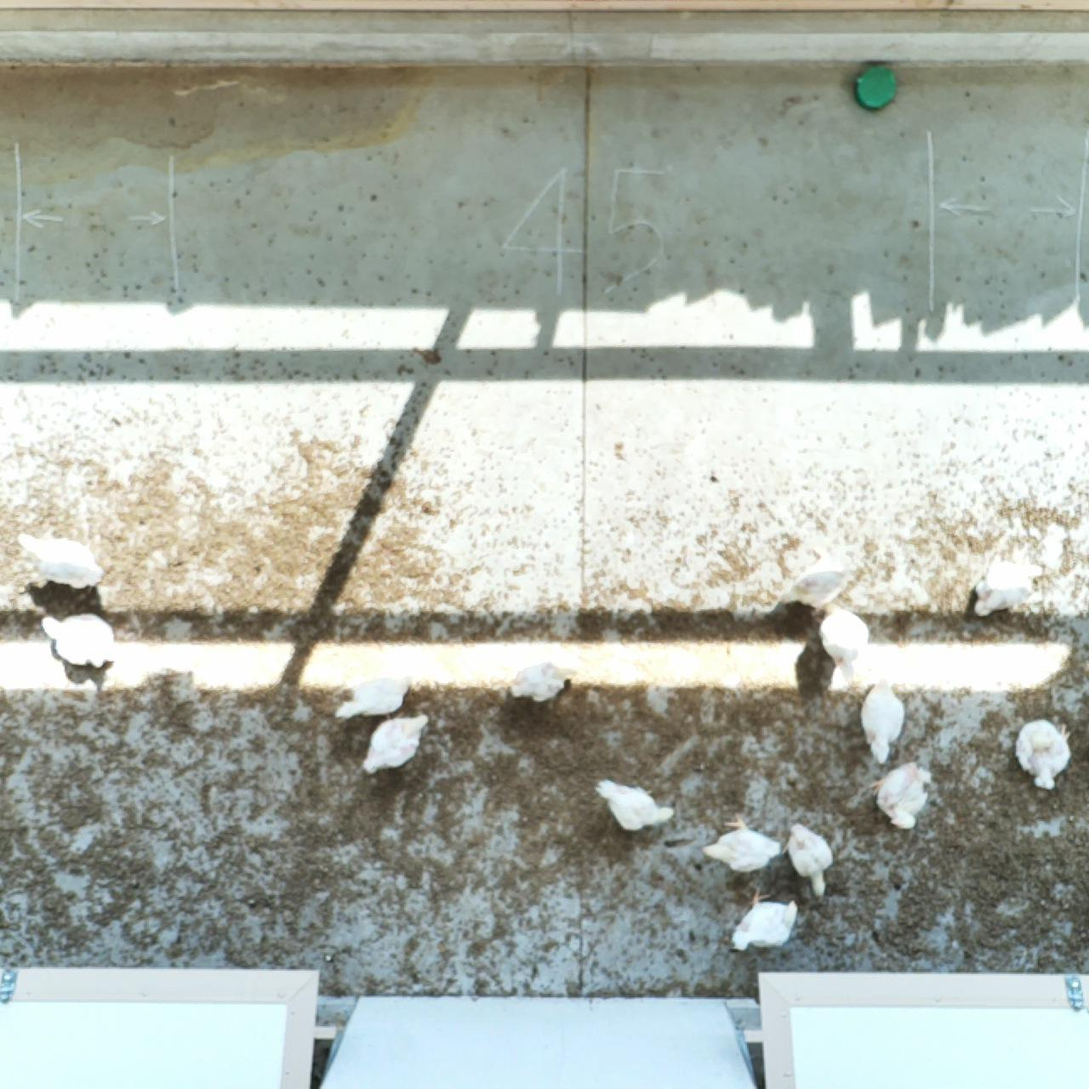chicken: (13, 525, 110, 597), (727, 881, 803, 958), (701, 811, 787, 877), (36, 608, 119, 672), (359, 711, 435, 780), (330, 666, 417, 726), (1011, 713, 1076, 793), (812, 602, 873, 687), (871, 760, 936, 838), (591, 776, 677, 834), (973, 554, 1046, 622), (780, 551, 862, 611), (780, 819, 836, 903), (857, 675, 908, 765), (503, 651, 580, 710)
